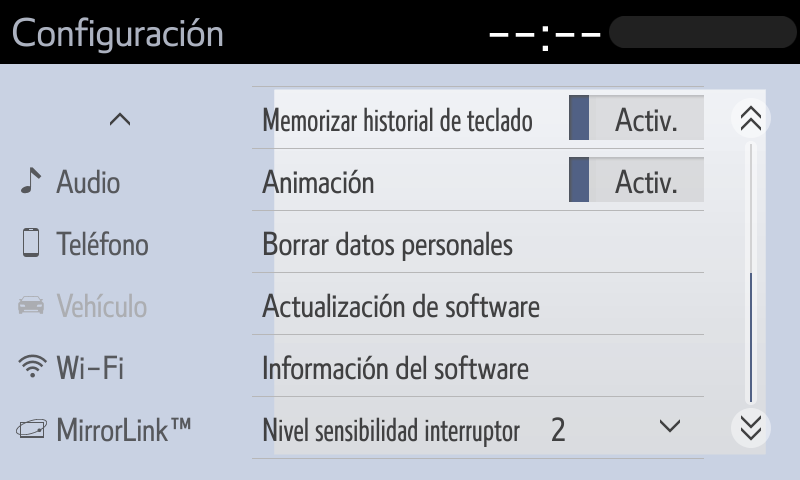touchPart: (250, 205, 713, 280), (250, 268, 712, 343), (254, 79, 708, 155), (253, 144, 713, 214), (248, 334, 712, 401), (244, 392, 708, 455), (14, 413, 205, 448), (17, 341, 138, 390), (15, 224, 158, 265), (17, 161, 130, 206), (728, 97, 774, 137), (733, 406, 774, 447), (103, 108, 141, 139)
untouchPart: (467, 13, 797, 56), (5, 4, 230, 54), (16, 285, 149, 325)
